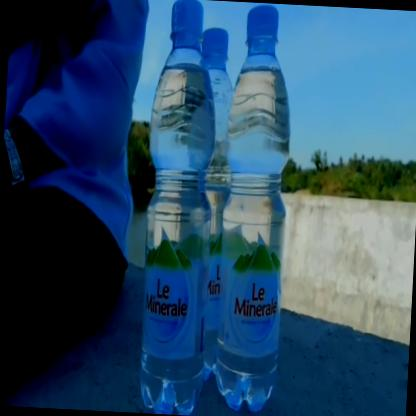plastic_bottles: (208, 1, 298, 416), (136, 0, 223, 416)
